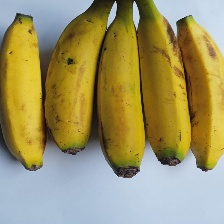banana: (22, 57, 163, 204)
